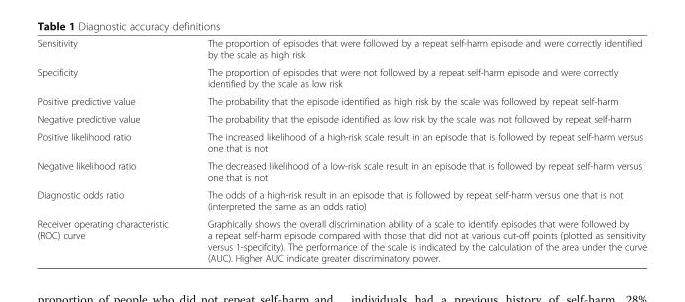table: (36, 37, 646, 263)
table column: (187, 37, 646, 263), (36, 37, 187, 263)
table row: (36, 214, 646, 263), (36, 62, 646, 92), (36, 127, 646, 156), (36, 156, 646, 185), (36, 185, 646, 214), (36, 37, 646, 62), (36, 109, 646, 127), (36, 92, 646, 109)
